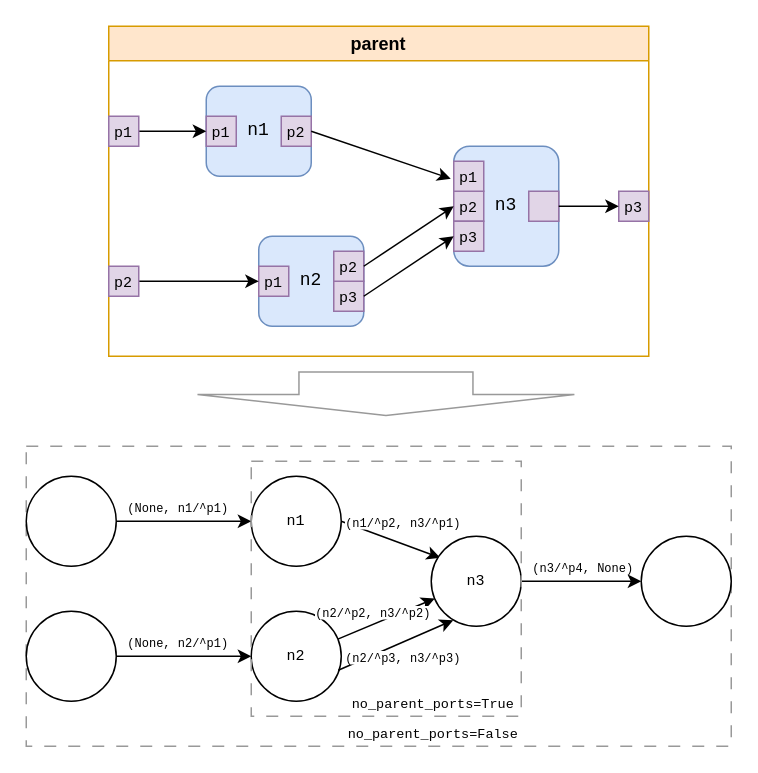
Image size: 758x773. Some labels were removed from this diagram. The shapes that lost their labels are listed below. From the top down, each one's centre as x and y in pixels, then its label:
(x=543, y=205): p4
(x=70, y=520): parent/^p1
(x=685, y=580): parent/^p3
(x=70, y=655): parent/^p2
